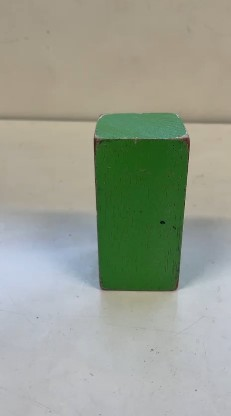green: (75, 104, 186, 299)
